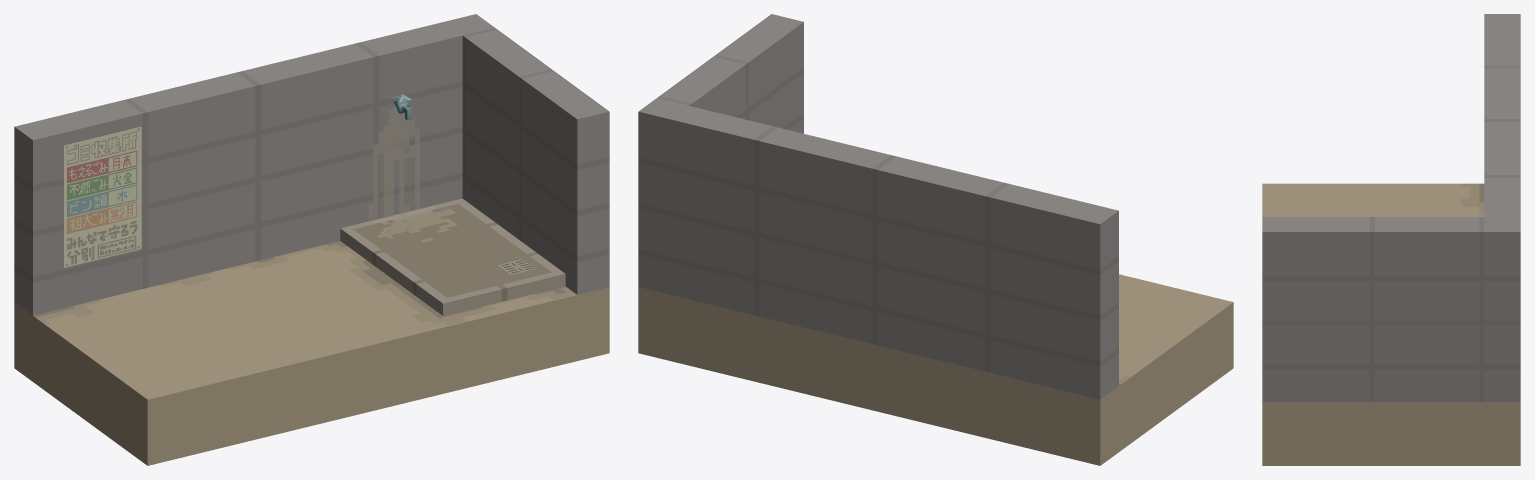
Rendered from 044b_Garbage_Dump.glb.
3 views of the same model, side by side, from view 1: azimuth 30°, elevation 25°; view 2: azimuth 150°, elevation 25°; view 3: azimuth 270°, elevation 25° (orthographic). The views are drawn at different scales.
Visible parts, largest first — view 1: part_0; view 2: part_0; view 3: part_0.
Part boxes in pixels (left/top/right/bottom): part_0: left=14, top=14, right=609, bottom=465; part_0: left=638, top=14, right=1233, bottom=465; part_0: left=1262, top=14, right=1520, bottom=465.
Size of the model in its own units: 3 by 1.5 by 1.5.
1 material, 1 textured.
